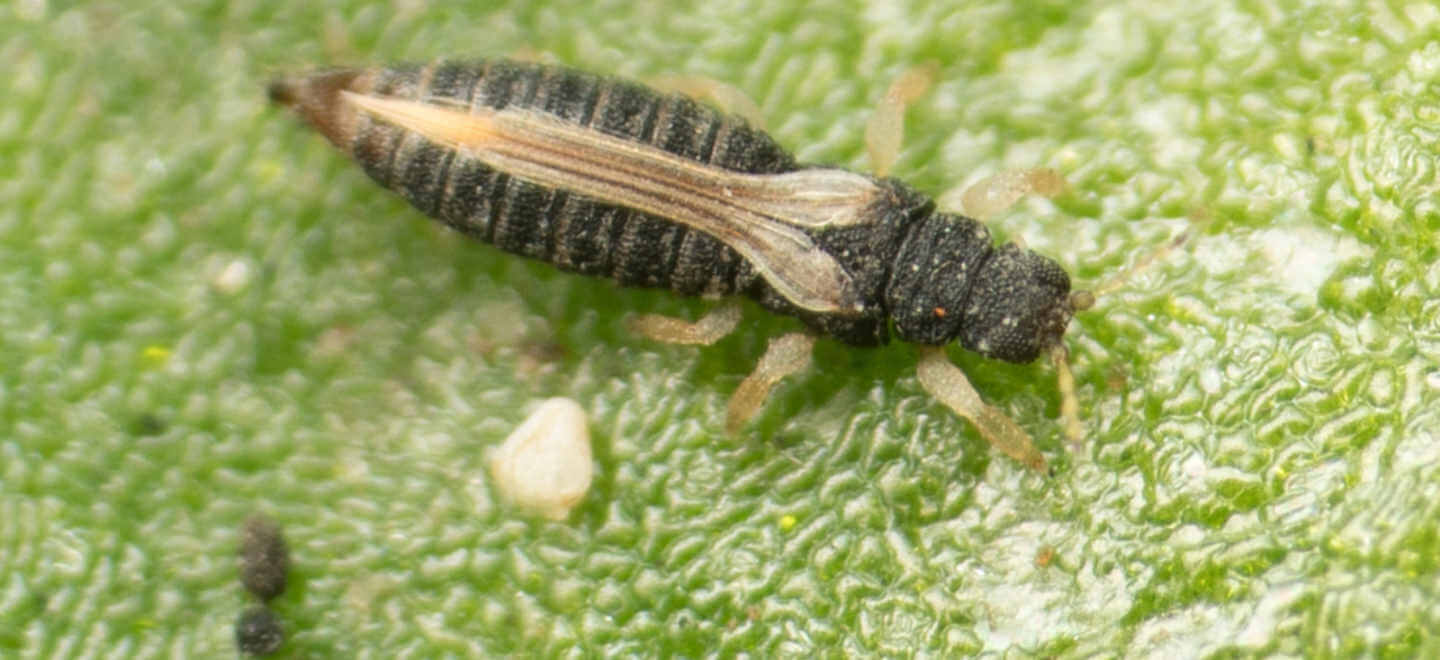Thrips: (272, 31, 1161, 472)
